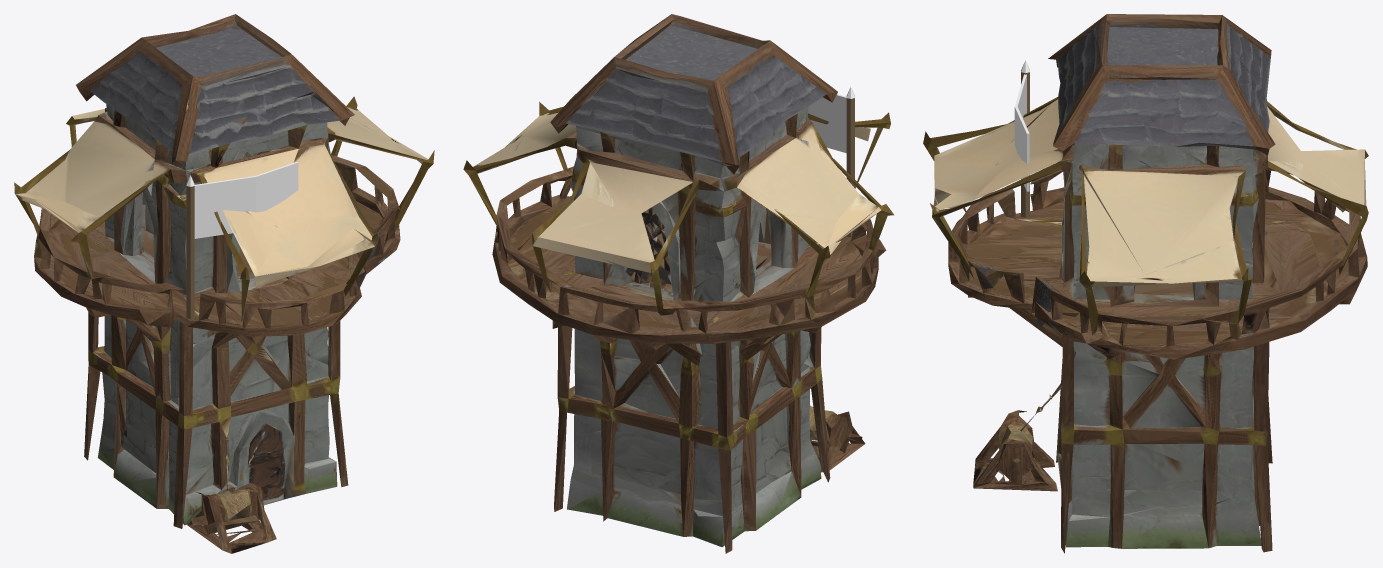
3 renders of one model, left to right at view 1: azimuth 30°, elevation 25°; view 2: azimuth 150°, elevation 25°; view 3: azimuth 270°, elevation 25°, orthographic. The views are drawn at different scales.
Parts seen in each view (by area): view 1: starborn_aerie, Team_banner; view 2: starborn_aerie, Team_banner; view 3: starborn_aerie, Team_banner.
Part boxes in pixels (x1,y1,x2,y2): starborn_aerie: [14, 14, 434, 553]; Team_banner: [186, 162, 298, 319]; starborn_aerie: [463, 14, 893, 553]; Team_banner: [808, 86, 854, 237]; starborn_aerie: [923, 14, 1368, 553]; Team_banner: [1014, 60, 1029, 217].
Bounding box in the file's own units: 1.63 × 1.9 × 1.64.
Materials: 3 (1 with a texture image).
